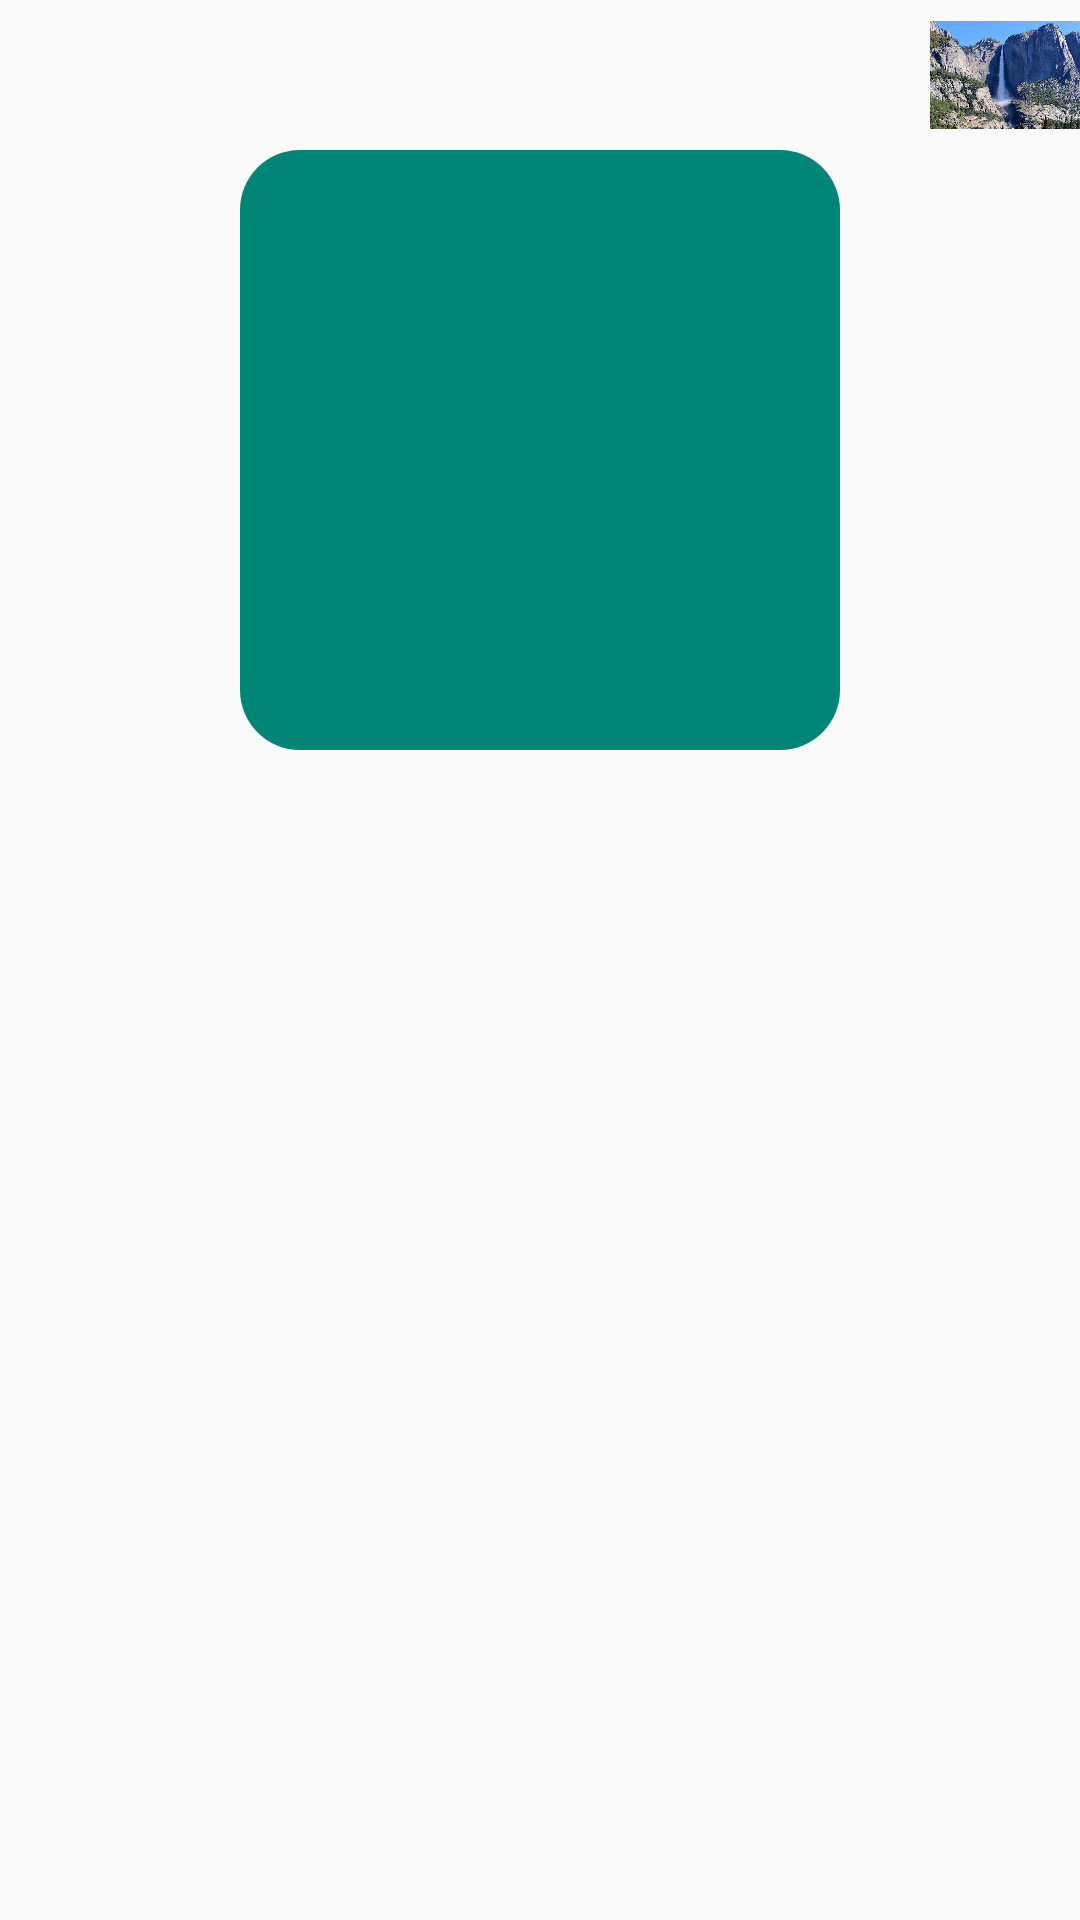

Named icons in this screenshot (1080w x 1920h) and their bounding boxes, (x1, y1, x2, y2):
calif: (930, 21, 1080, 129)
